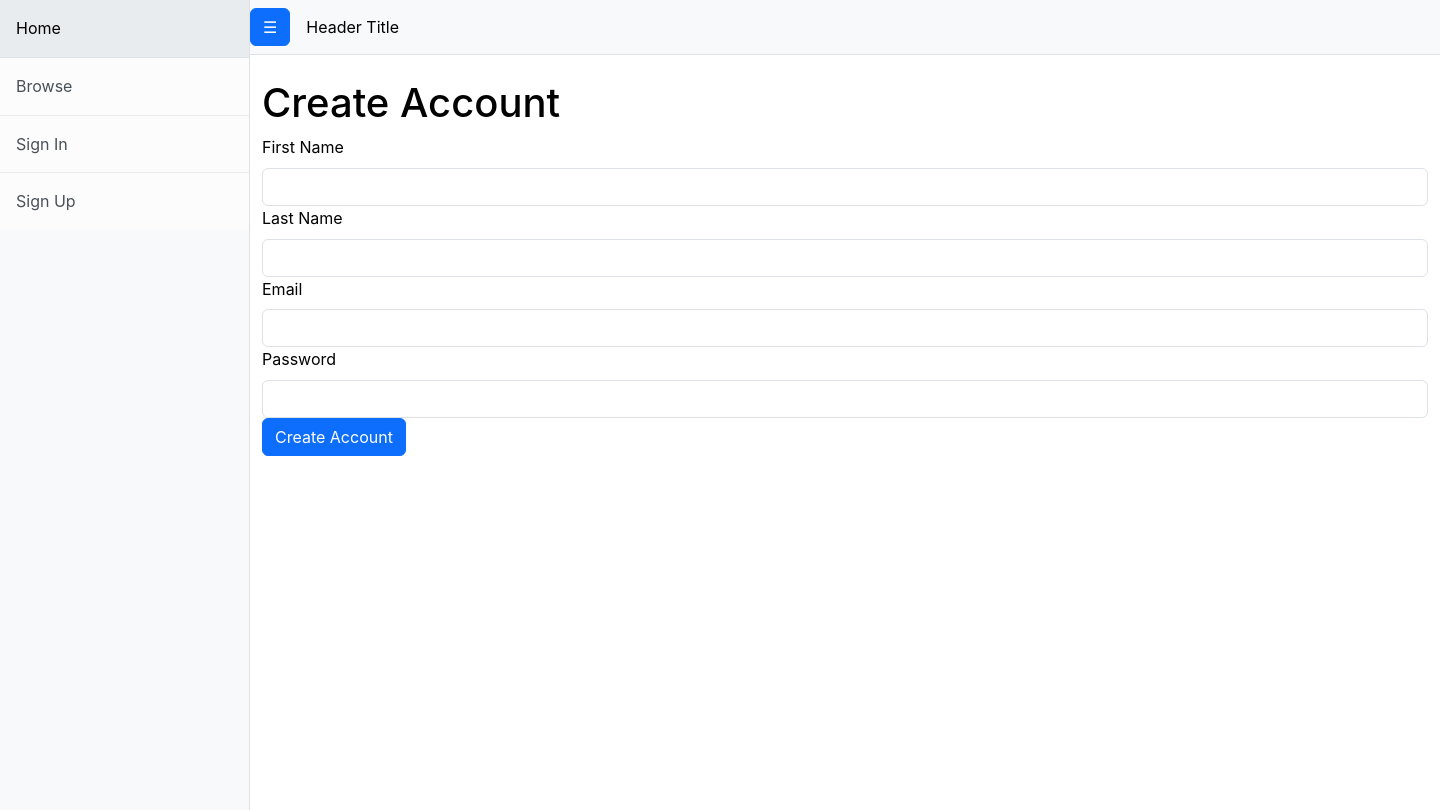
it: SignUp › shows validation error for short password
This screenshot has width=1440, height=810.
Type "12345" into the password field labelled "Password" at (845, 399), box [262,380,1428,418]
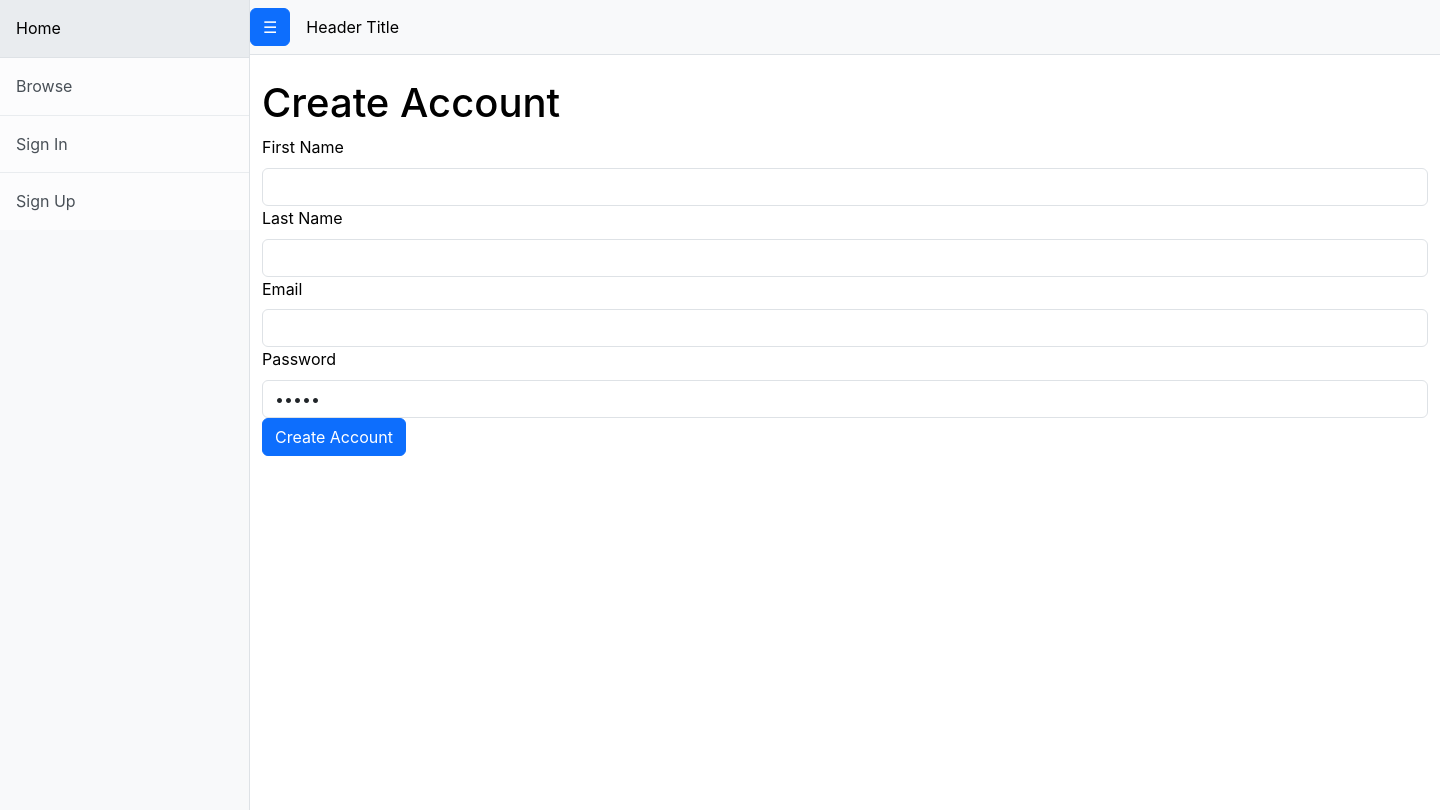
Submit the form, box [262,135,1428,456]
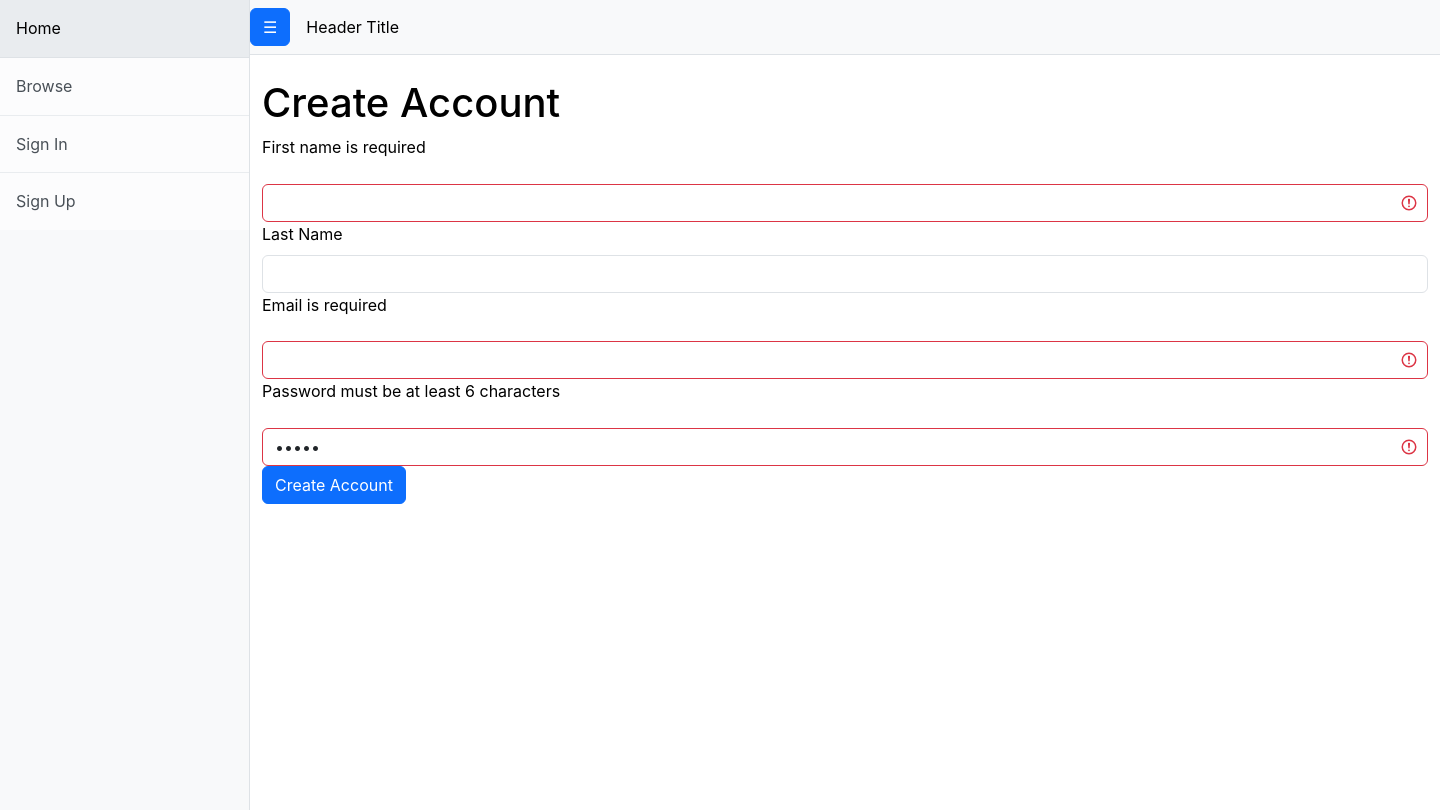
Expected: the text "Password must be at least 6 characters" is shown, [262,379,560,404]
